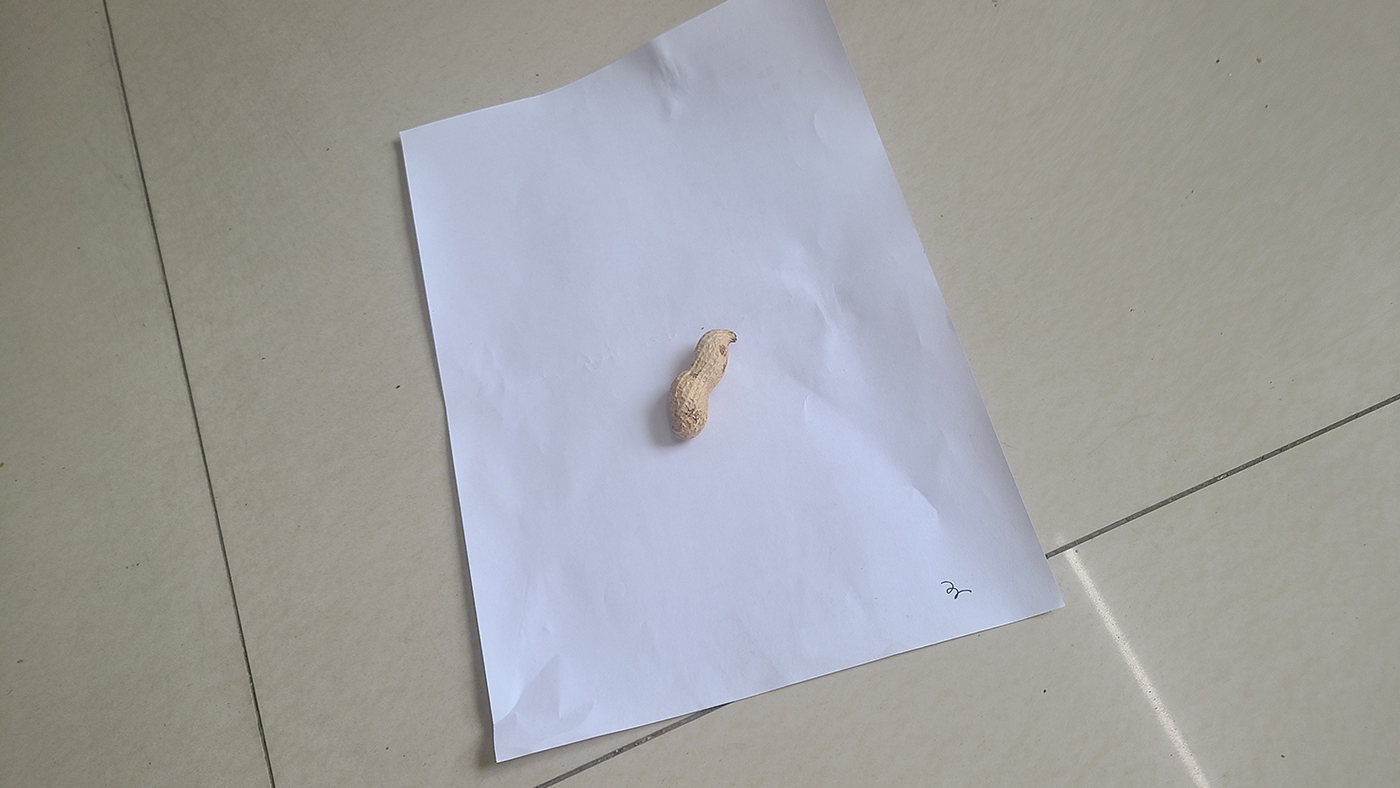h: (667, 328, 738, 436)
